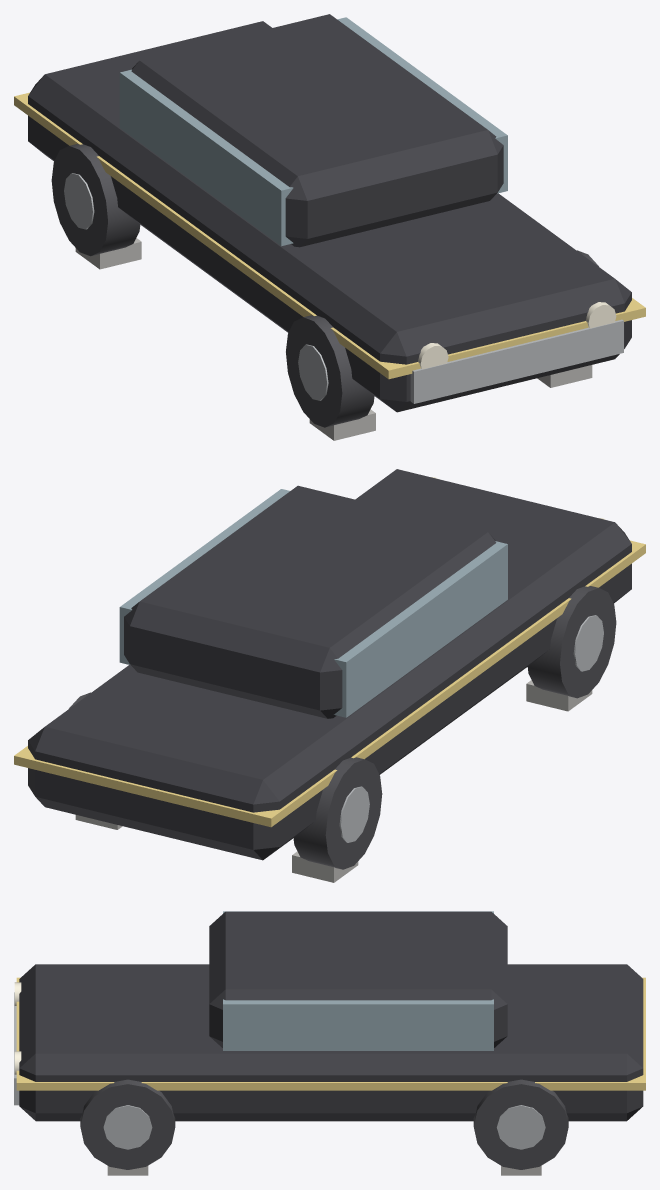
File: rs_sedan.glb
3 renders of one model, top to bottom at view 1: azimuth 30°, elevation 25°; view 2: azimuth 150°, elevation 25°; view 3: azimuth 270°, elevation 25°, orthographic. The views are drawn at different scales.
Parts seen in each view (by area): view 1: rs_sedan; view 2: rs_sedan; view 3: rs_sedan.
Part boxes in pixels (bbox=[...]): rs_sedan: bbox=[14, 14, 645, 440]; rs_sedan: bbox=[14, 469, 645, 882]; rs_sedan: bbox=[14, 911, 645, 1175].
Bounding box in the file's own units: 1.98 × 1.4 × 4.66.
